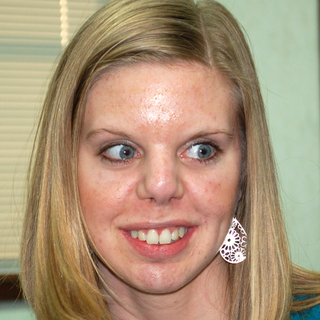eye: (174, 133, 228, 171), (90, 135, 150, 169)
